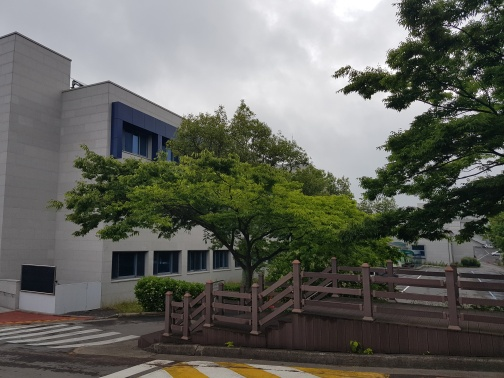College of Social Sciences: (5, 35, 246, 322)
